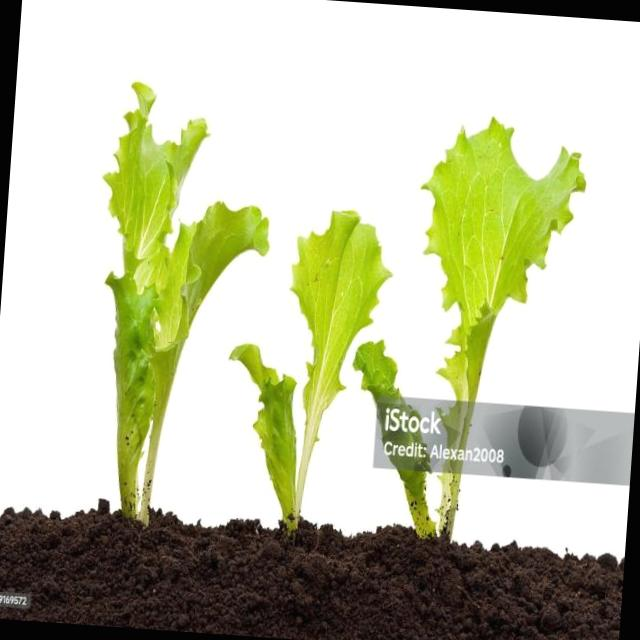Lettuce-Not-Ready-to-Harvest: (353, 118, 586, 541), (101, 81, 270, 528), (228, 210, 391, 535)
